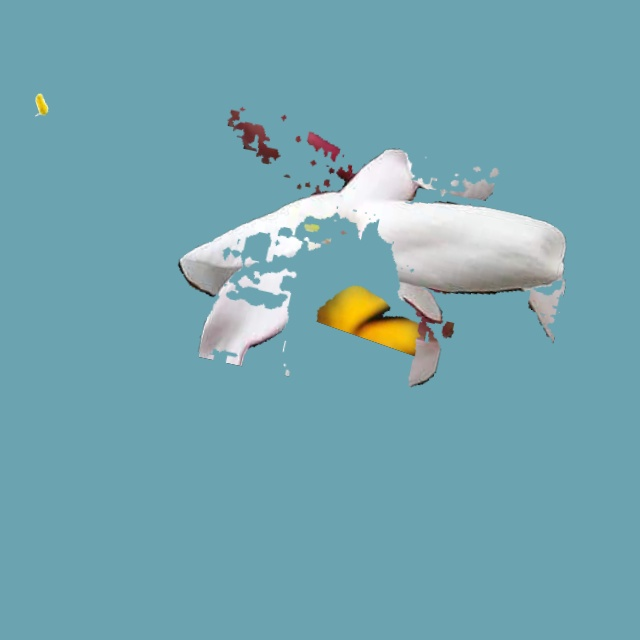jasmine: (178, 107, 565, 386)
sunflower: (317, 286, 424, 355)
ylang-ylang: (35, 94, 47, 115)
